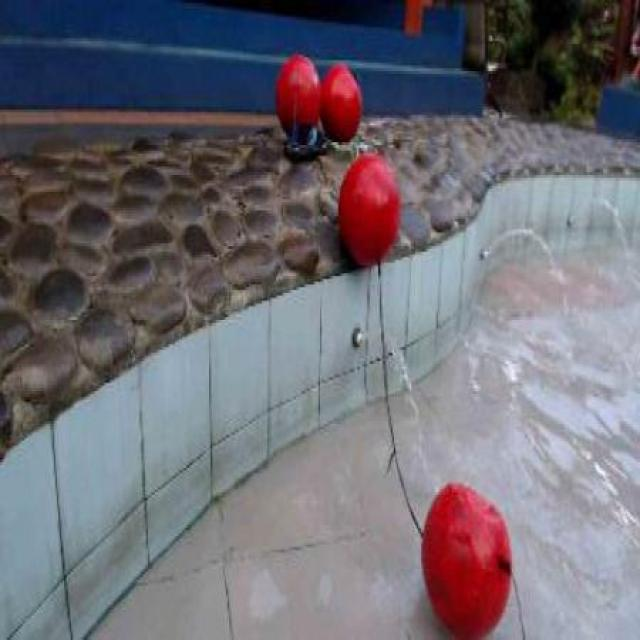buoy: (419, 480, 514, 636), (338, 154, 397, 267), (276, 50, 321, 136), (320, 61, 360, 141)
